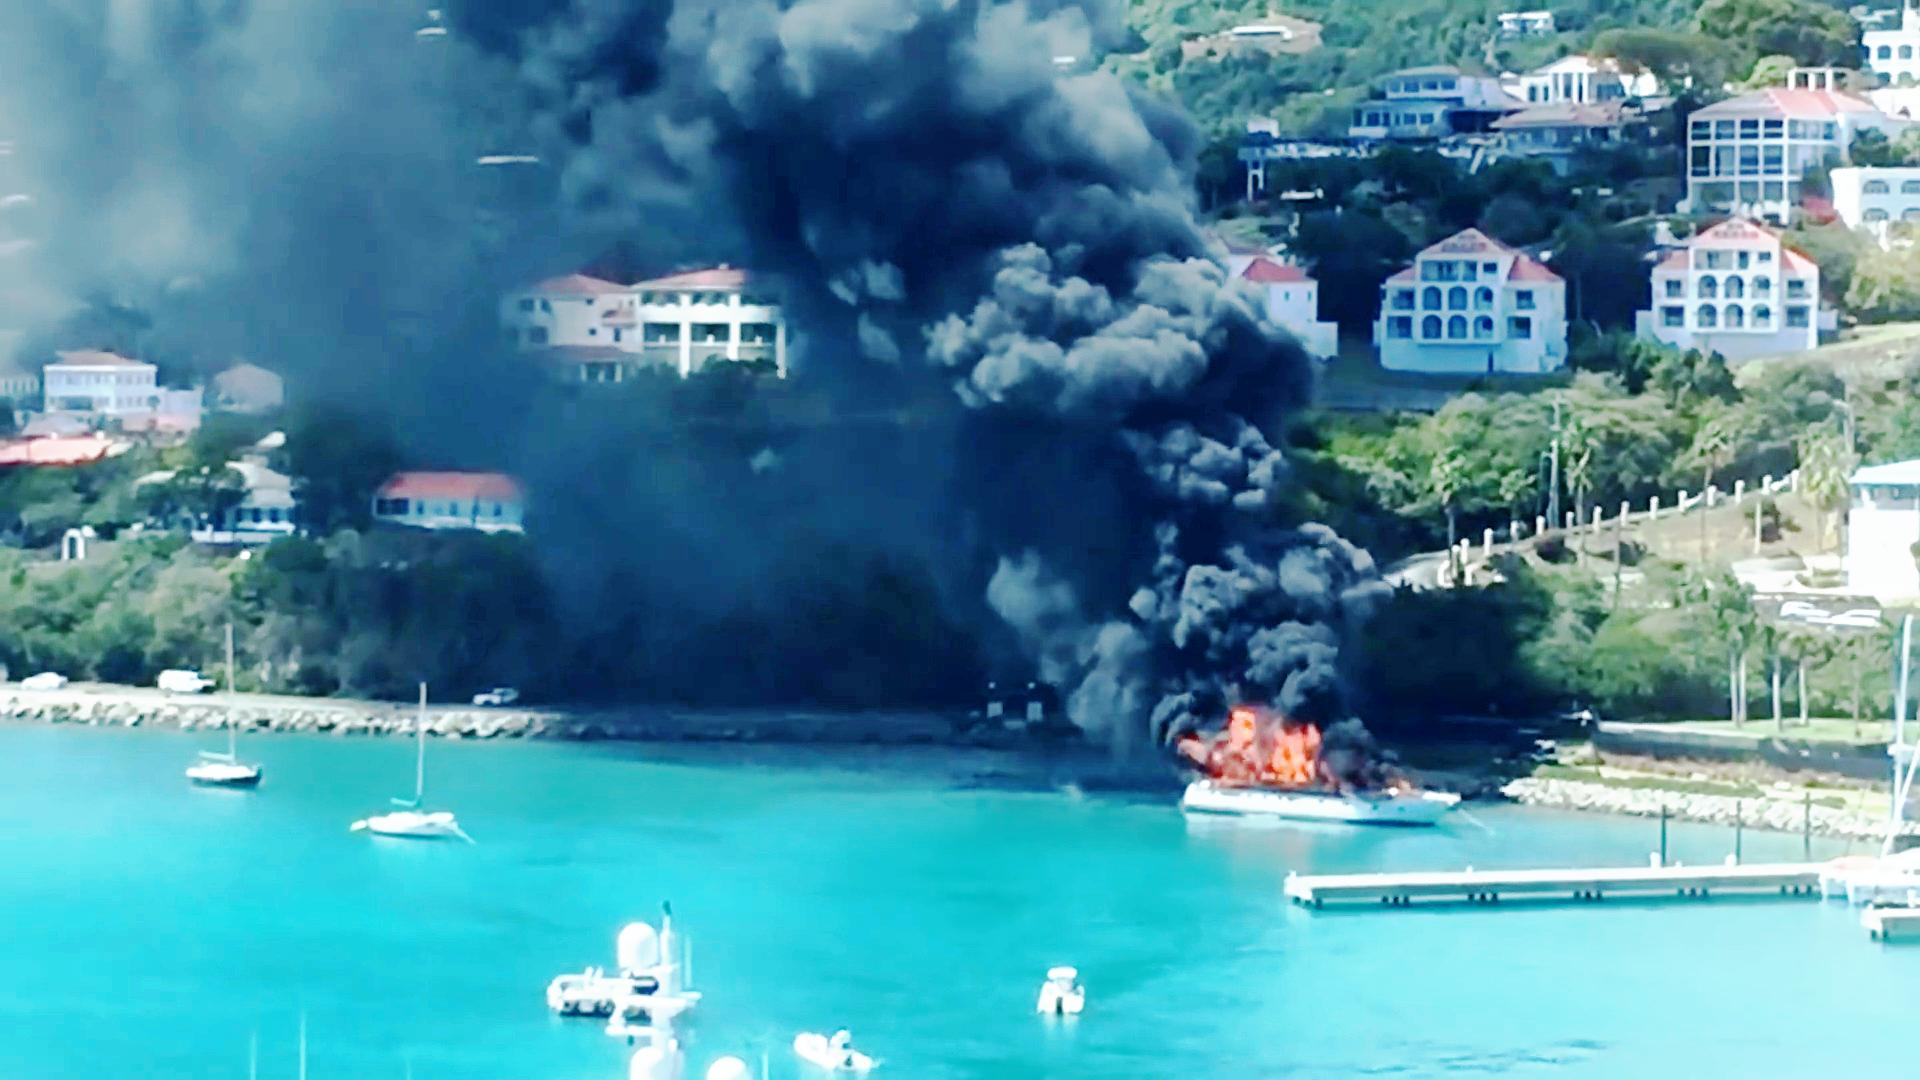fire: (1205, 703, 1346, 793)
smoke: (981, 313, 1323, 703)
